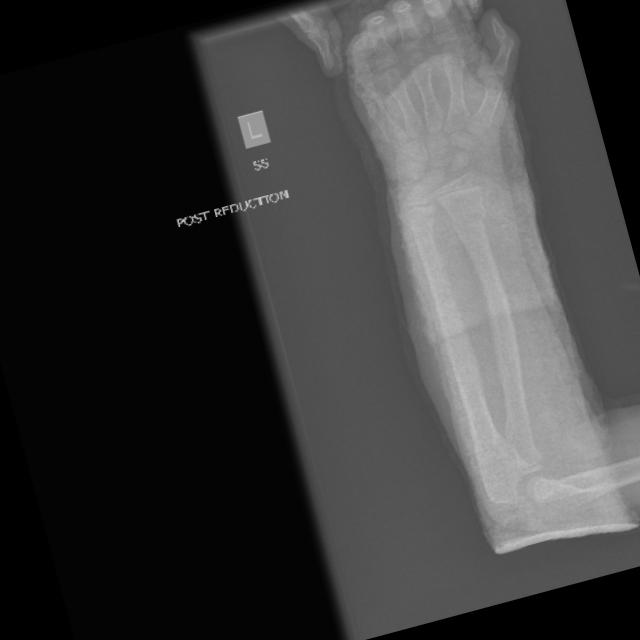forearm fracture: (432, 185, 525, 268)
